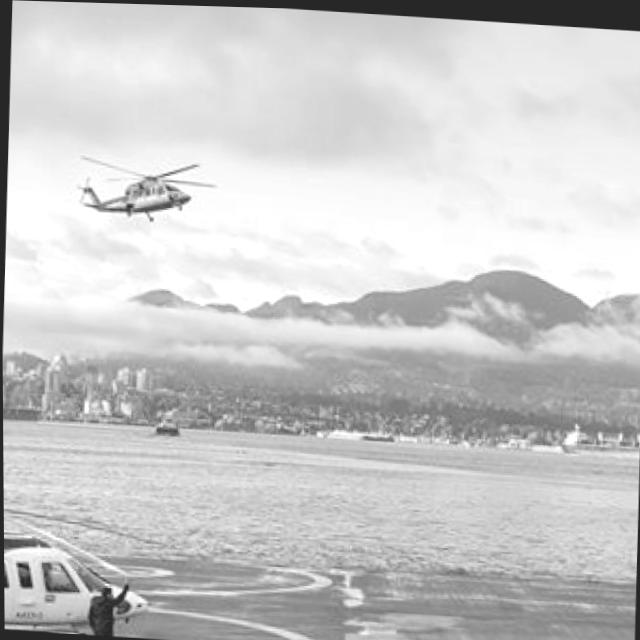helikopter: (34, 128, 231, 254)
